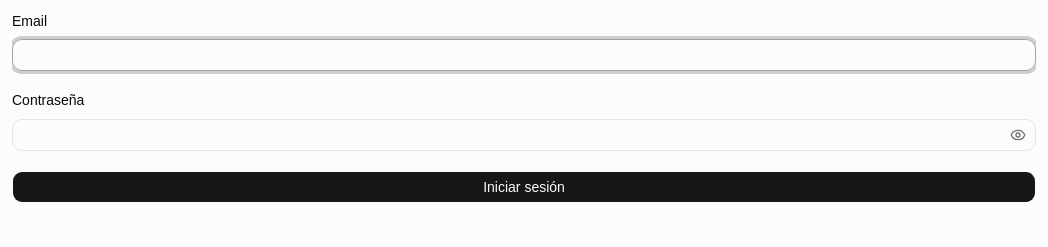
LoginForm › avisa si el email no tiene formato válido
Type "no-es-un-email" into the field labelled "Email" at (524, 55), box [12,39,1036,71]
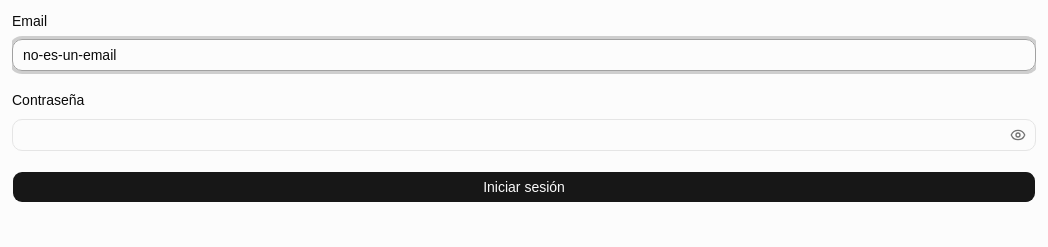
Type "12345678" into the password field labelled "Contraseña" at (524, 134), box [12,118,1036,150]
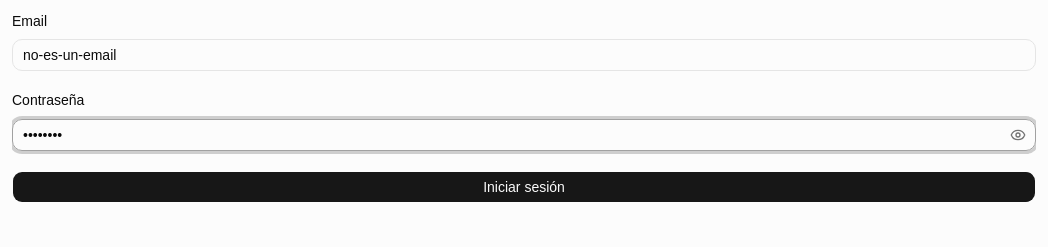
Click the button "Iniciar sesión" at (524, 186), box [12,170,1036,202]
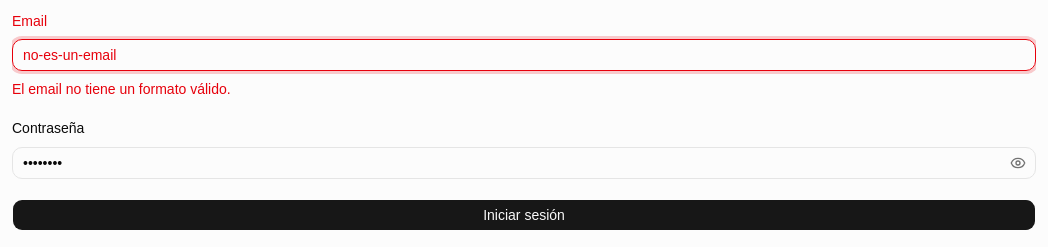
Result: the text "El email no tiene un formato válido." is shown at [12,81,231,97]
